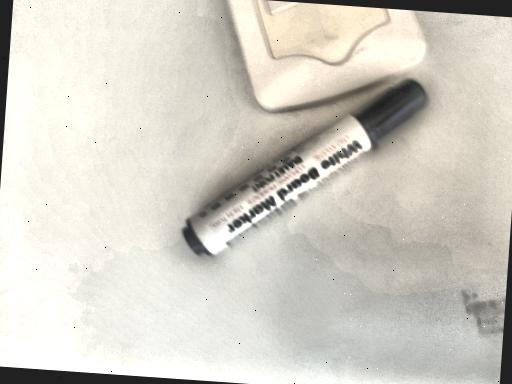marcador negro: (183, 80, 426, 255)
